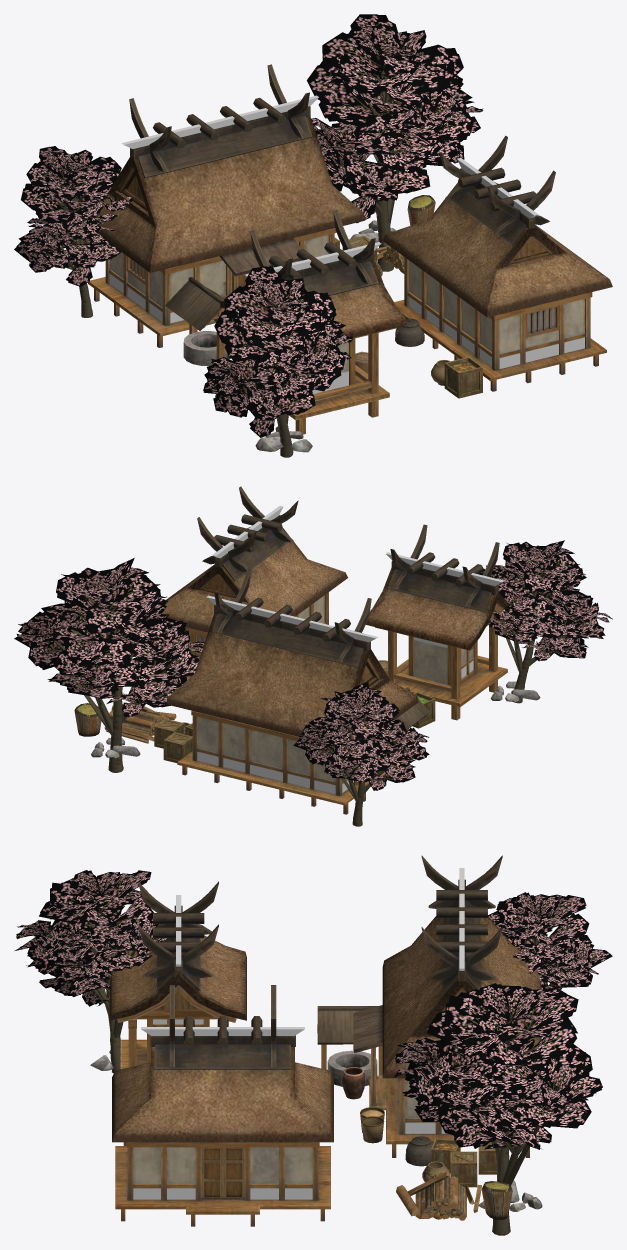
The model's file is 105-villagecenter.glb.
The picture shows the model from 3 angles, top to bottom: view 1: azimuth 30°, elevation 25°; view 2: azimuth 150°, elevation 25°; view 3: azimuth 270°, elevation 25°; orthographic projection. The views are drawn at different scales.
Size of the model in its own units: 11.39 by 5.4 by 11.97.
15 materials, 15 textured.
